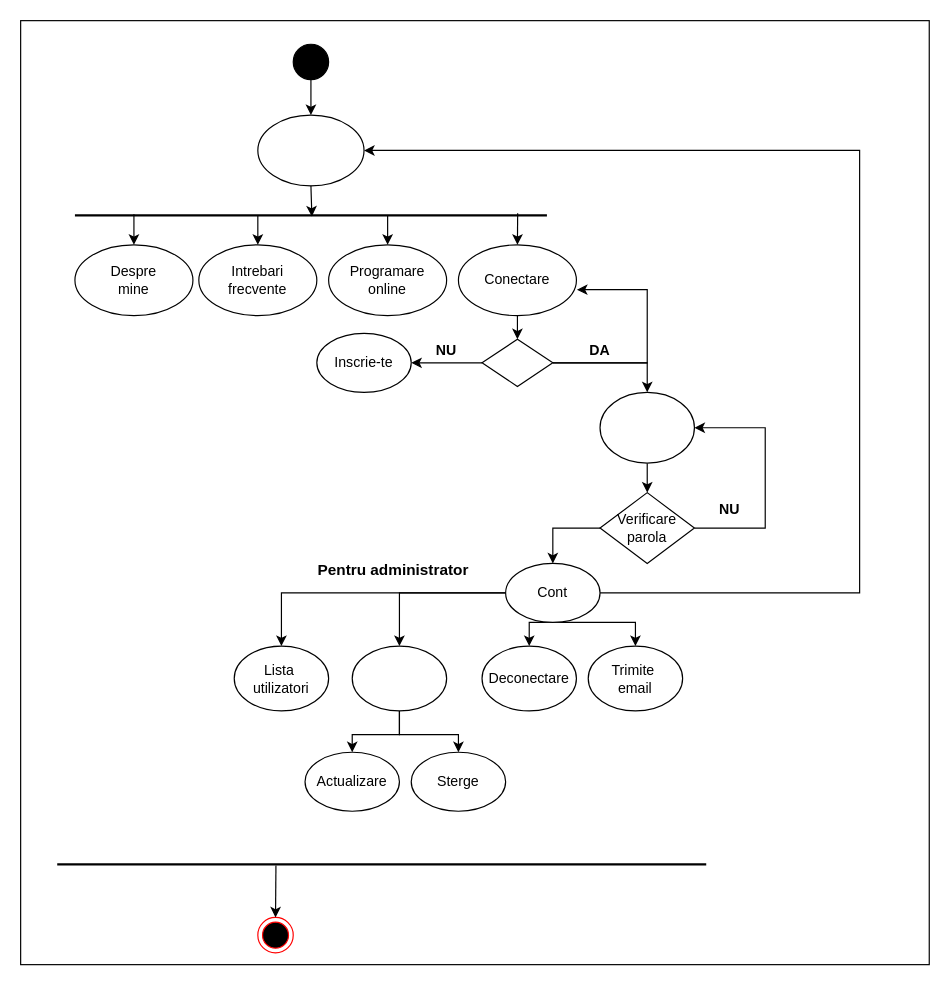
This 950x985 diagram has some shape labels left out. Each missing label, with the centre of its shape:
"Acasa" goes at pixel 310 150.
"Ai cont?" goes at pixel 517 362.
"Introduci email si parola" goes at pixel 646 427.
"Lista pacienti" goes at pixel 399 678.
